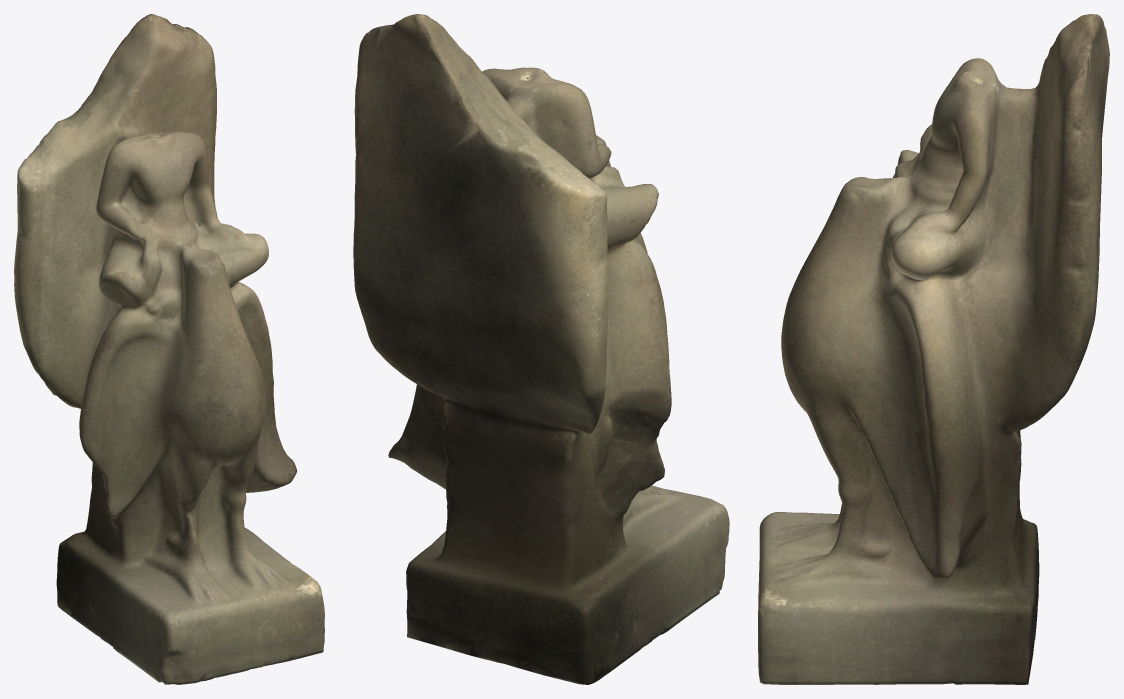
The model's file is 22_skanda_final.glb.
3 views of the same model, side by side, from view 1: azimuth 30°, elevation 25°; view 2: azimuth 150°, elevation 25°; view 3: azimuth 270°, elevation 25° (orthographic). The views are drawn at different scales.
Size of the model in its own units: 0.3377 by 0.7651 by 0.3755.
Materials: 1 (1 with a texture image).
